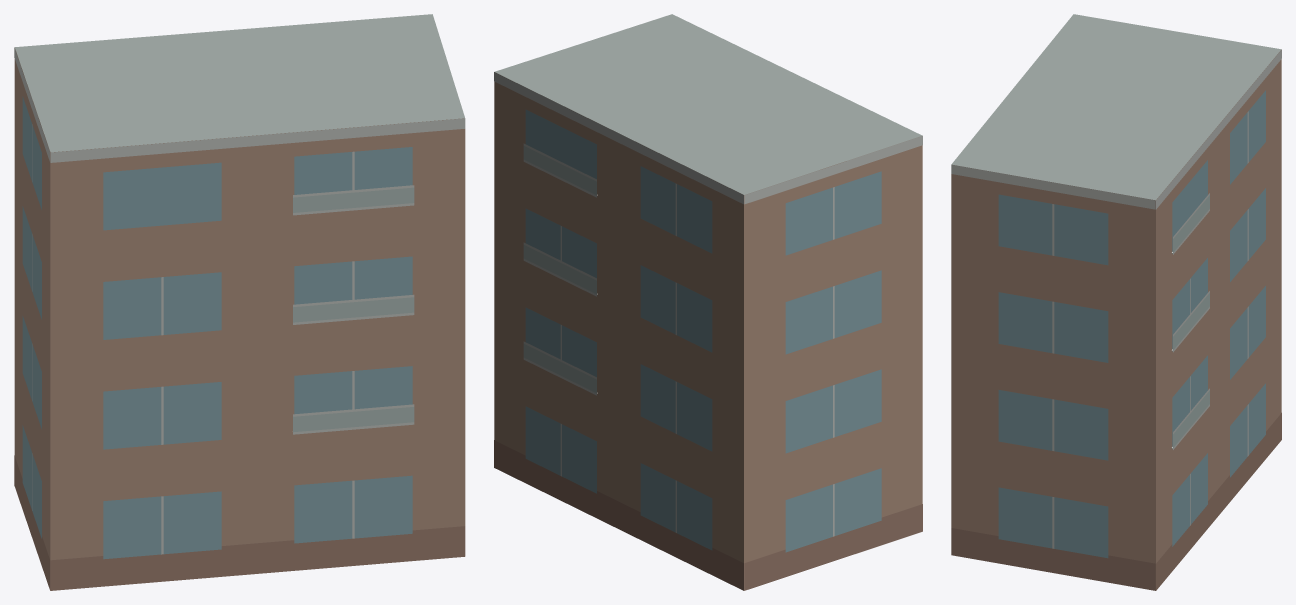
Rendered from survey-upis-32756276.glb.
3 renders of one model, left to right at view 1: azimuth 30°, elevation 25°; view 2: azimuth 150°, elevation 25°; view 3: azimuth 270°, elevation 25°, orthographic. The views are drawn at different scales.
Parts seen in each view (by area): view 1: survey-upis-32756276.tmp; view 2: survey-upis-32756276.tmp; view 3: survey-upis-32756276.tmp.
Part boxes in pixels (<box>): survey-upis-32756276.tmp: <box>14,14,465,590</box>; survey-upis-32756276.tmp: <box>494,14,922,590</box>; survey-upis-32756276.tmp: <box>951,14,1281,590</box>.
Size of the model in its own units: 10.34 by 10.1 by 7.76.
